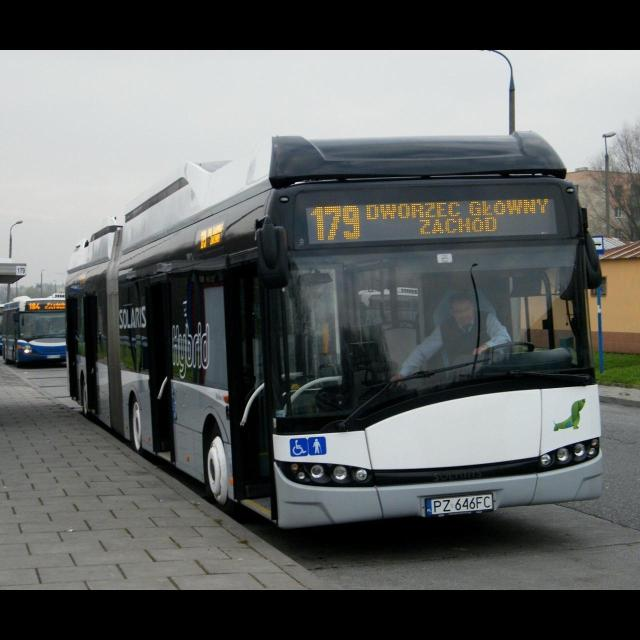Bus: (64, 132, 604, 529)
